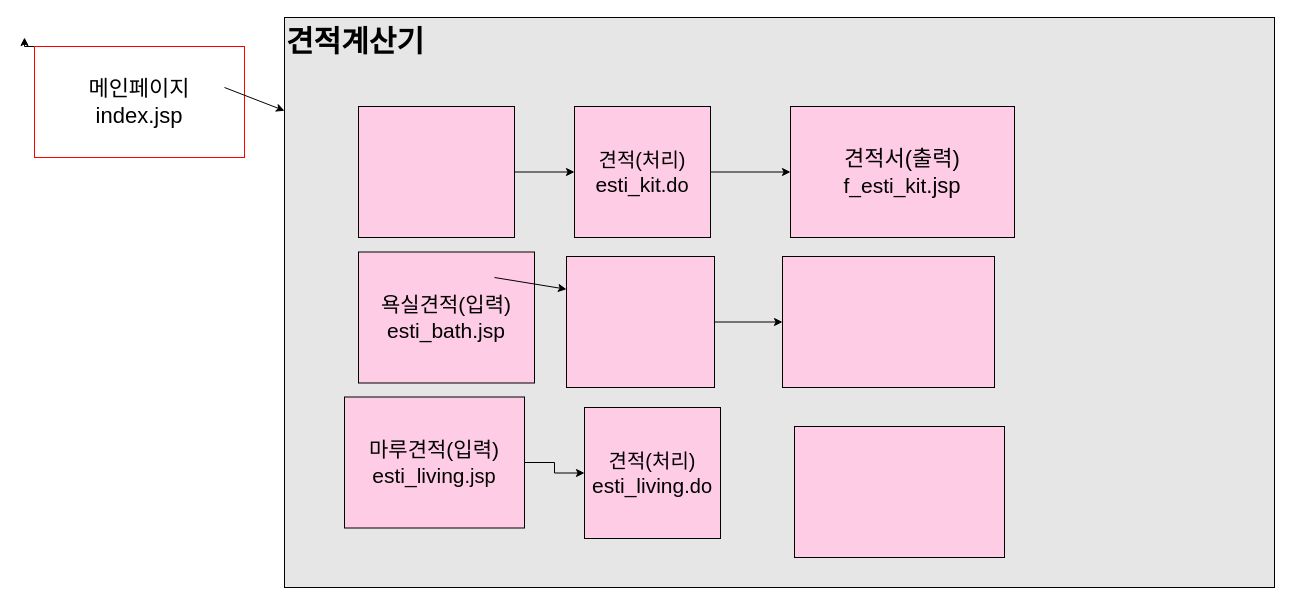
Image size: 1292x605. Some labels were removed from this diagram. Each missing label, with the centre of its shape:
견적(처리) esti_bath .do: (x=640, y=322)
견적(출력) f_esti_bath.jsp: (x=888, y=322)
견적(출력) f_esti_living .jsp: (x=899, y=492)
주방 견적(입력) esti_kit.jsp: (x=436, y=172)
